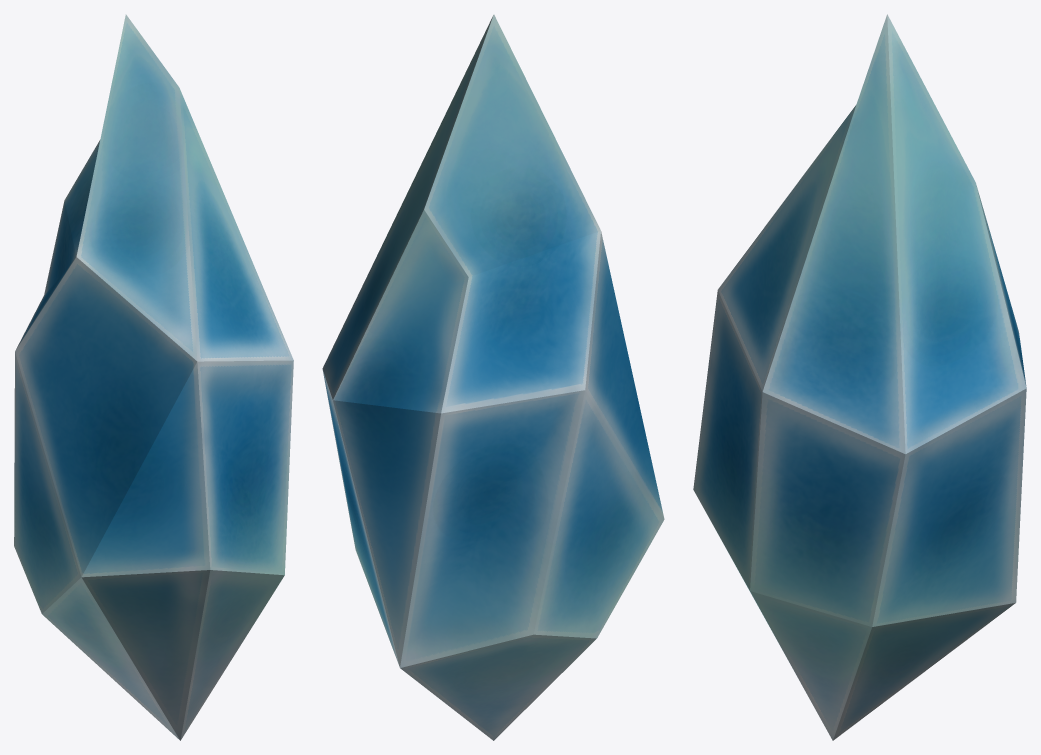
File: Gems_1.fbx
3 views of the same model, side by side, from view 1: azimuth 30°, elevation 25°; view 2: azimuth 150°, elevation 25°; view 3: azimuth 270°, elevation 25° (orthographic). The views are drawn at different scales.
Parts seen in each view (by area): view 1: Gems_1; view 2: Gems_1; view 3: Gems_1.
Part boxes in pixels (x1,y1,x2,y2): Gems_1: [14, 14, 293, 740]; Gems_1: [322, 14, 664, 740]; Gems_1: [693, 14, 1026, 740].
Bounding box in the file's own units: 1.36 × 3.64 × 1.54.
